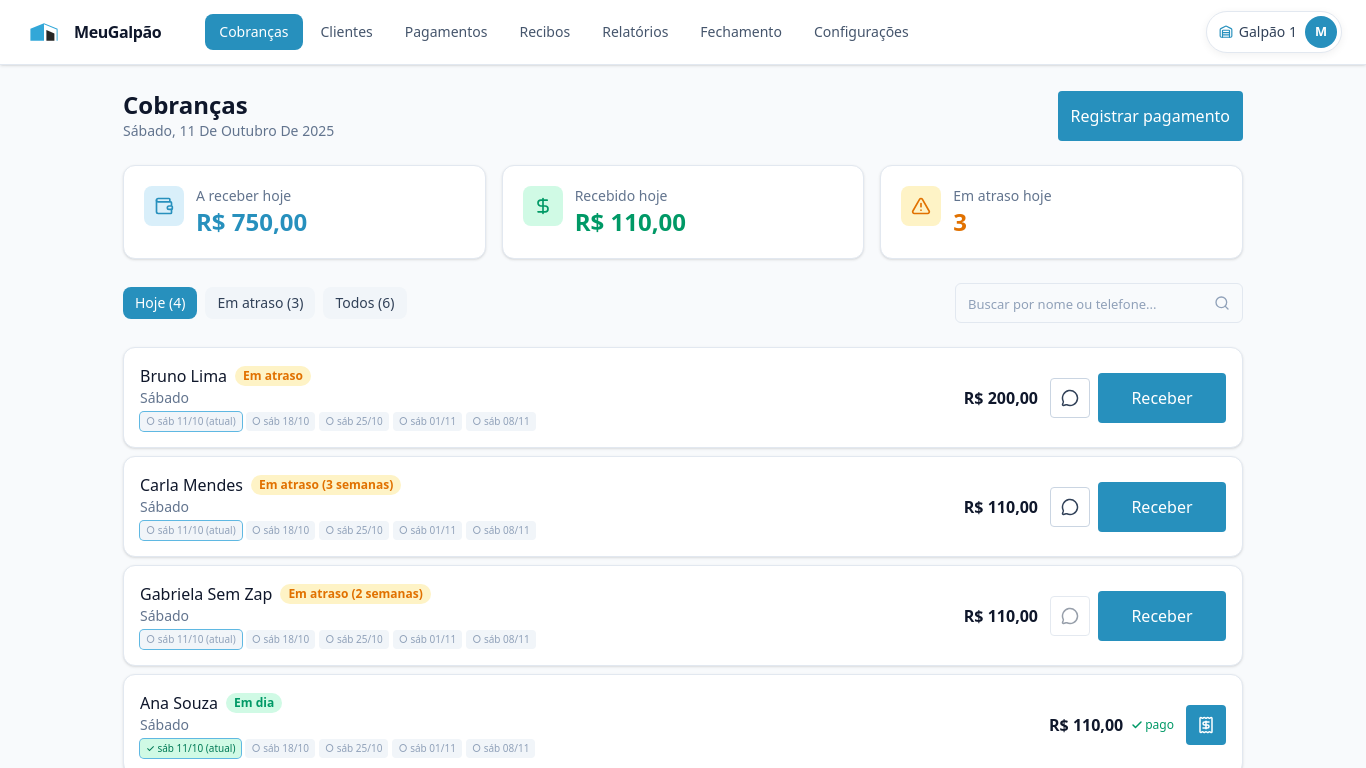
Test: Menu do perfil › usuário comum aparece como "Usuário" e só vê o galpão liberado (sem escolher galpão)
This screenshot has width=1366, height=768.
expect the heading "Cobranças" is shown: met, box top-left (123, 88), bottom-right (248, 121)
Click the button named "Menu do perfil — ": x=1321, y=32 top-left (1305, 16), bottom-right (1337, 48)
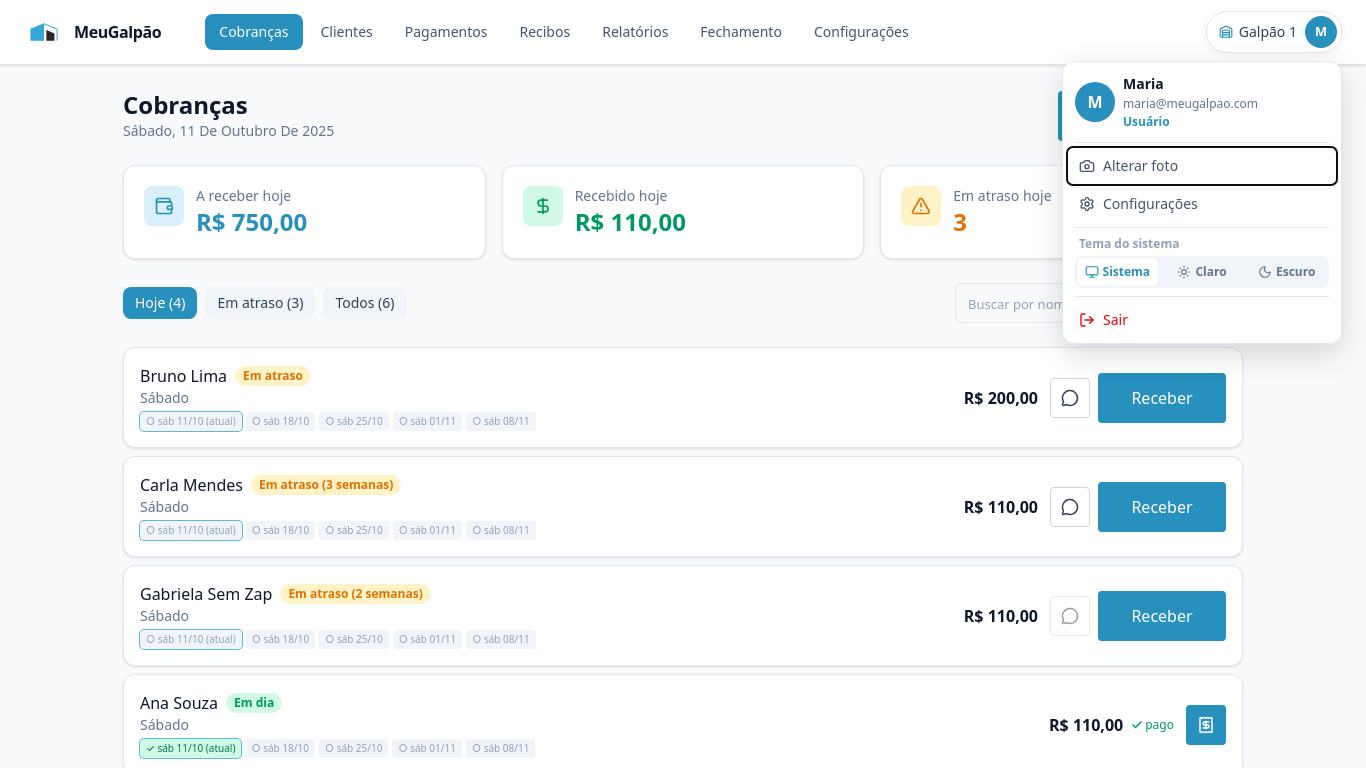
expect the text "Usuário" is shown: met, box top-left (1123, 113), bottom-right (1170, 130)
